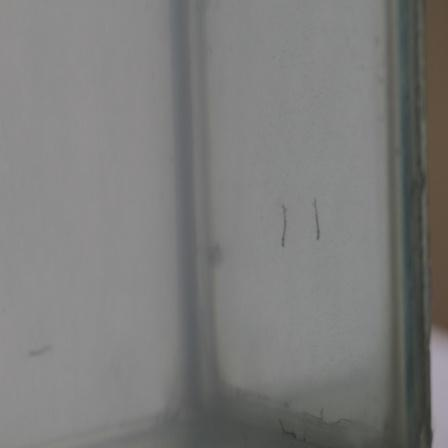Jentik-Nyamuk: (279, 196, 293, 251)
